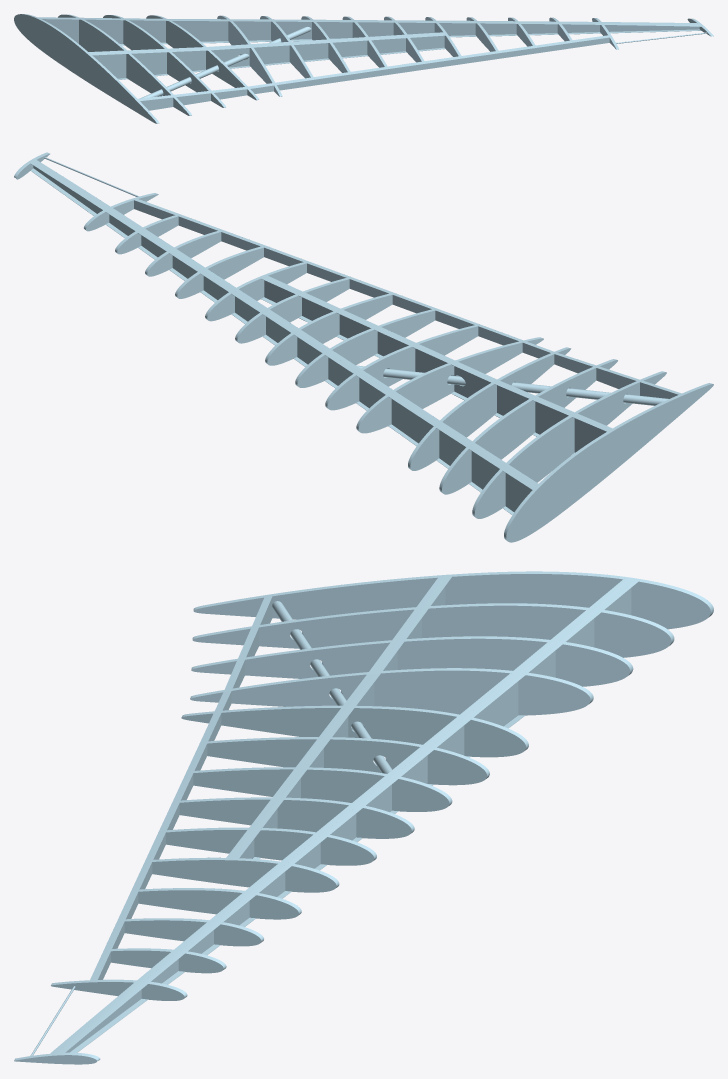
The model's file is ribs-transformed.glb.
3 renders of one model, top to bottom at view 1: azimuth 30°, elevation 25°; view 2: azimuth 150°, elevation 25°; view 3: azimuth 270°, elevation 25°, orthographic. The views are drawn at different scales.
Parts seen in each view (by area): view 1: Wing Structure; view 2: Wing Structure; view 3: Wing Structure.
Part boxes in pixels (x1,y1,x2,y2): Wing Structure: [14, 14, 713, 123]; Wing Structure: [14, 152, 713, 542]; Wing Structure: [14, 571, 713, 1064].
Bounding box in the file's own units: 10 × 0.6081 × 6.55.
